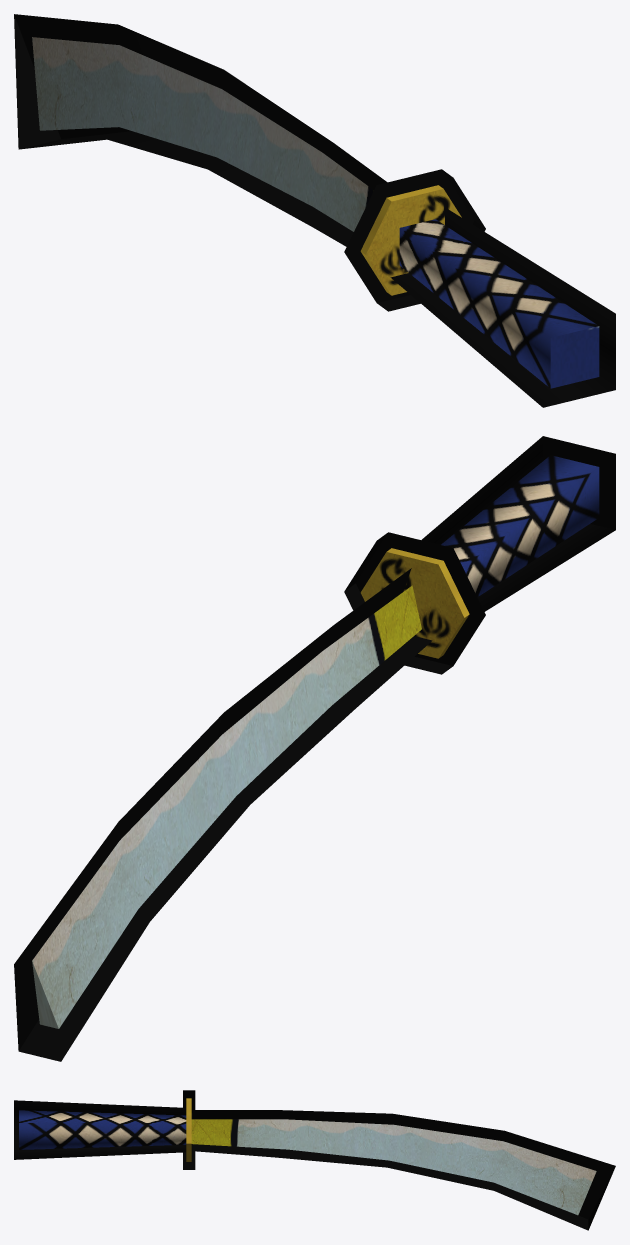
The model's file is katana.fbx.
3 views of the same model, one above another, from view 1: azimuth 30°, elevation 25°; view 2: azimuth 150°, elevation 25°; view 3: azimuth 270°, elevation 25° (orthographic). The views are drawn at different scales.
Parts seen in each view (by area): view 1: pCube3, pCube4; view 2: pCube3, pCube4; view 3: pCube3, pCube4.
Boxes of the visible parts, x1,y1,x2,y2 form: pCube3: (32,37,599,388); pCube4: (14,14,615,407); pCube3: (32,455,599,1028); pCube4: (14,436,615,1061); pCube3: (19,1098,596,1215); pCube4: (14,1090,615,1230).
Bounding box in the file's own units: 0.5845 × 1.02 × 4.39.
